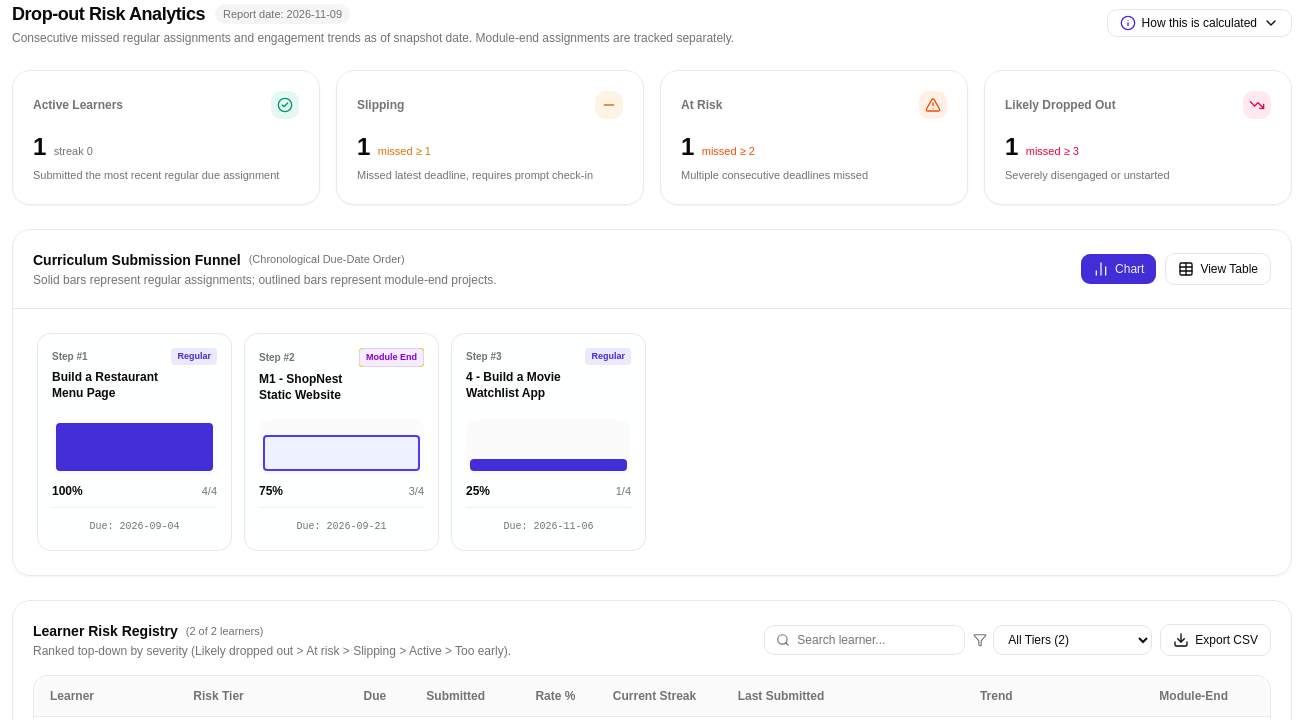
Test: Stage 3: Drop-out Risk UI Tests › renders funnel chart in due-date order with due dates and outlined module-end bars
The width and height of the screenshot is (1304, 720).
Check: the heading "Curriculum Submission Funnel" is shown, box [33,250,241,270]
Check: the text "Due: 2026-09-04" is shown, box [90,521,180,532]
# Toggle to Table view
Click the button "View Table": coordinates (1218, 268) [1165,252,1271,284]
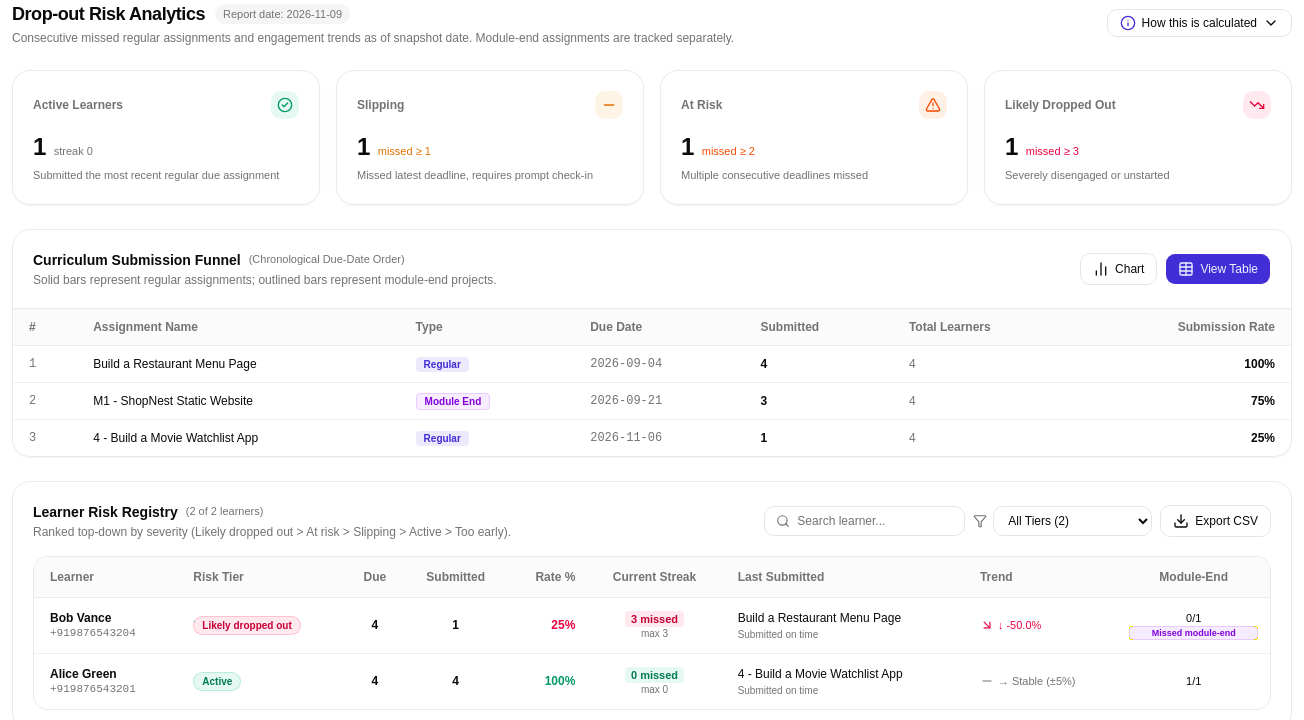
Check: the column heading "Total Learners" is shown, box [893,308,1079,345]
